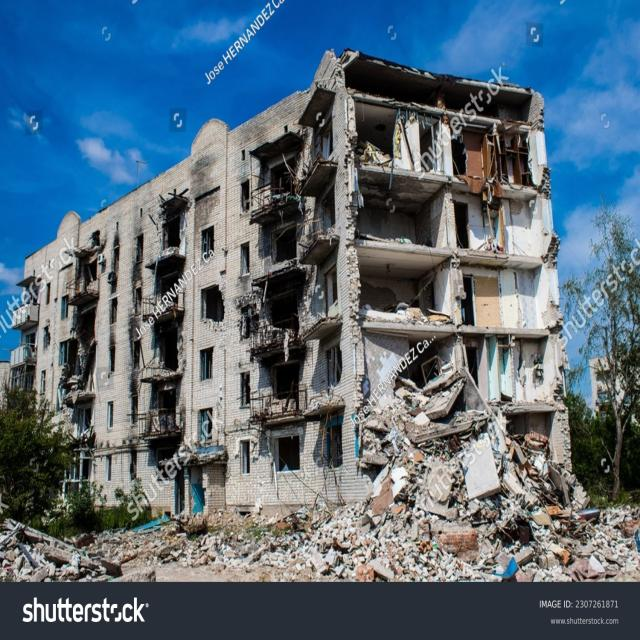Destroyed_building: (1, 0, 639, 581)
